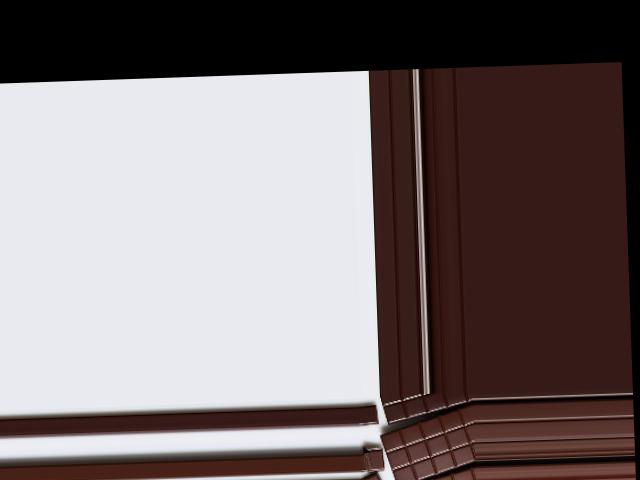chocolate: (380, 407, 477, 480)
